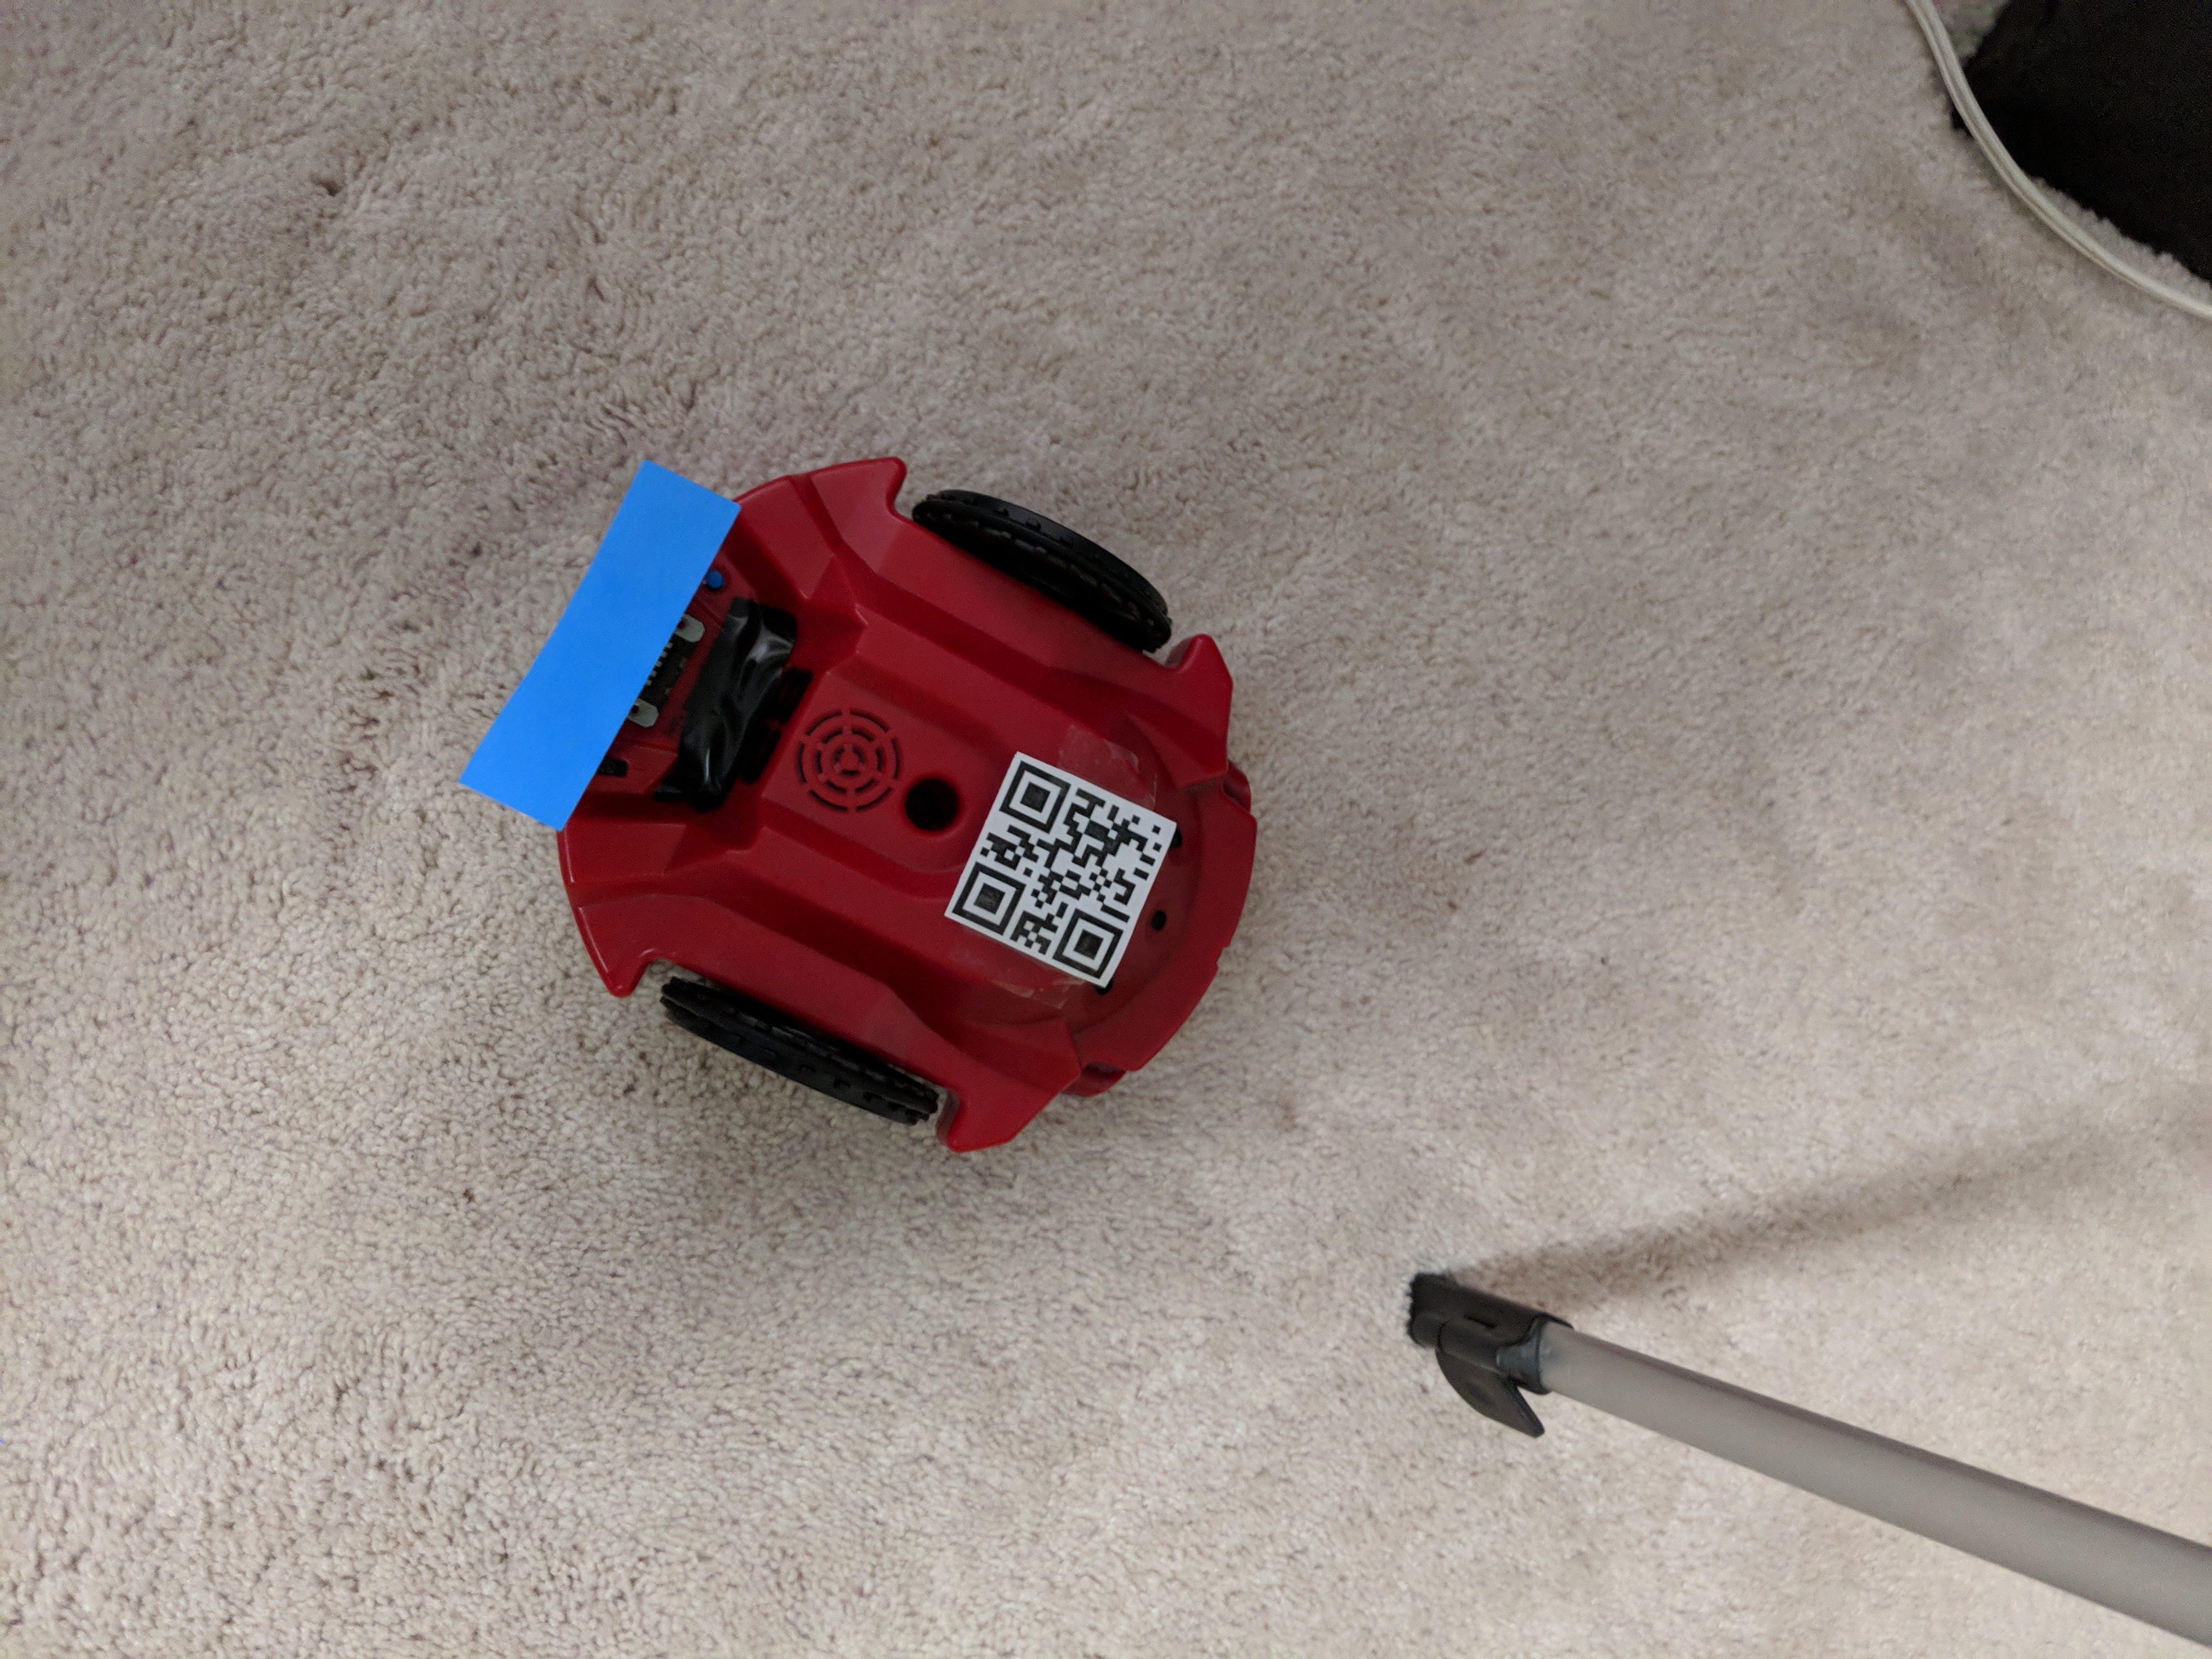chassis: (475, 430, 1291, 1178)
qr: (935, 748, 1170, 990)
